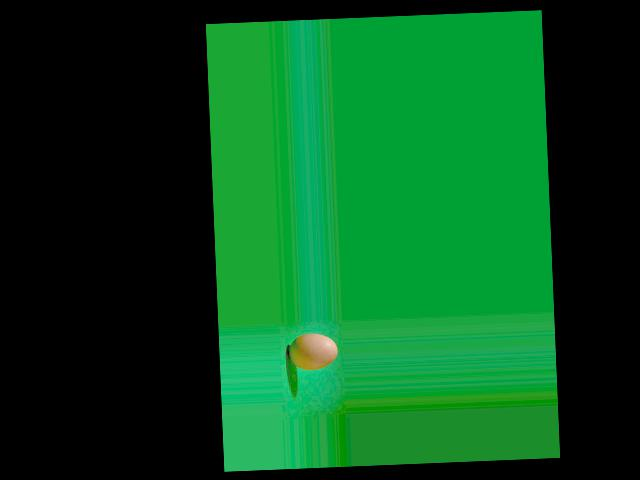egg: (287, 332, 337, 371)
